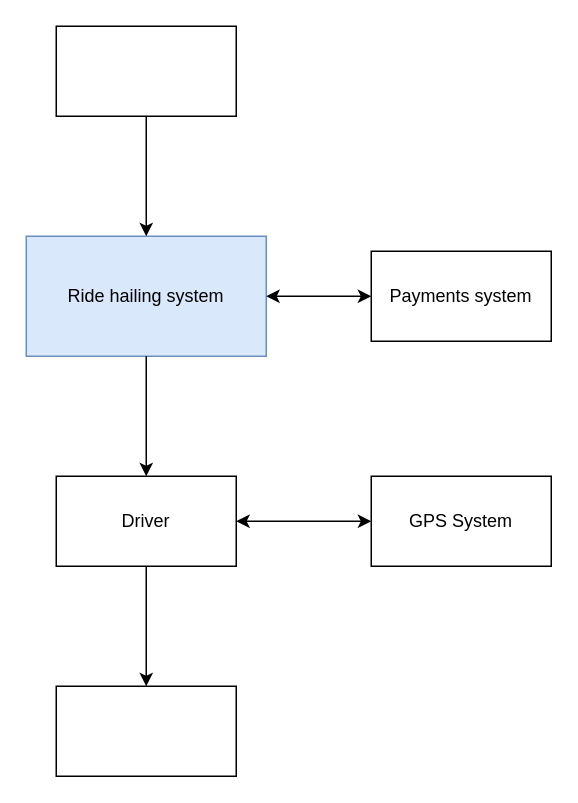
The diagram is 578 pixels wide and 803 high, and some of its shapes have lost their labels. The shapes that lost their labels are listed below. From the top down, each one's centre as x and y in pixels, then its label:
At point (145, 70): "Passenger".
At point (145, 730): "Admin(System Management)".
